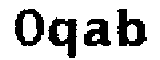0: (12, 6, 43, 48)
a: (83, 16, 111, 50)
b: (117, 3, 150, 50)
q: (47, 17, 77, 60)
